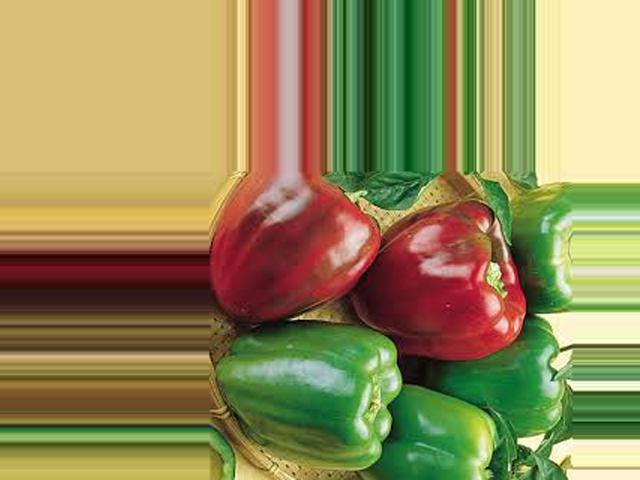bell_pepper: (207, 176, 379, 312)
